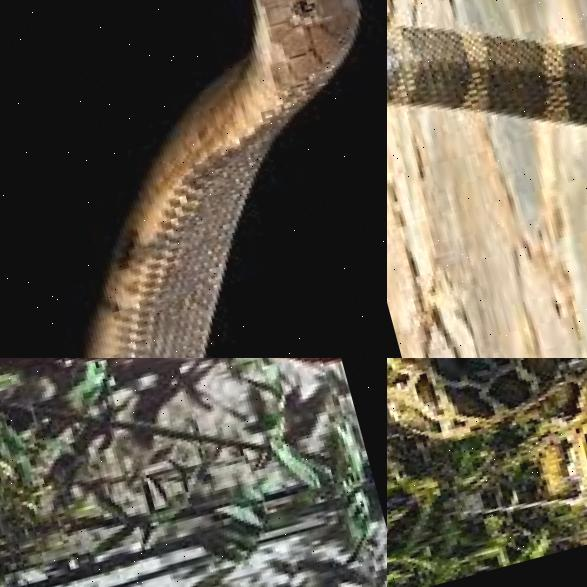1: (0, 0, 387, 358)
5: (0, 358, 384, 587), (387, 0, 587, 282)
snake: (387, 358, 587, 587)
